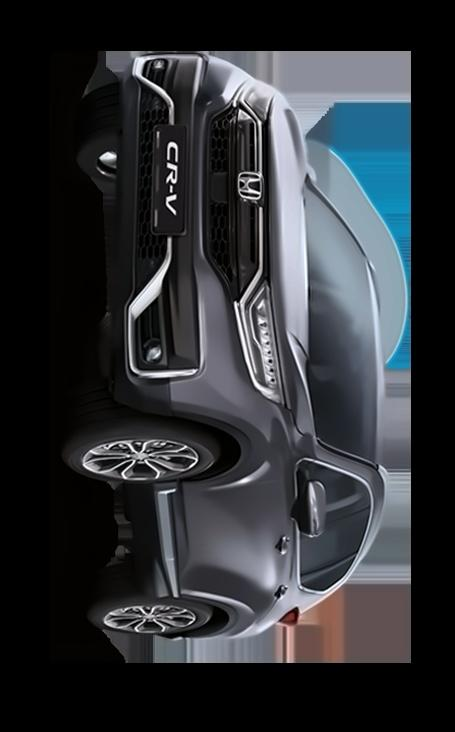Car hood: (262, 87, 321, 440)
Fender - -F-L-: (152, 395, 321, 492)
Fender - -R-L-: (213, 583, 306, 633)
Front bumper: (87, 43, 237, 431)
Headlight - -L-: (229, 267, 302, 422)
Headlight - -R-: (233, 67, 288, 131)
Passenger-s door - -F-L-: (170, 458, 392, 556)
Passenger-s door - -R-L-: (166, 518, 386, 606)
Rear bumper: (156, 622, 247, 656)
Rear light - -L-: (267, 603, 316, 640)
Side bumper - -L-: (140, 476, 186, 604)
Side mirror - -L-: (284, 467, 334, 540)
